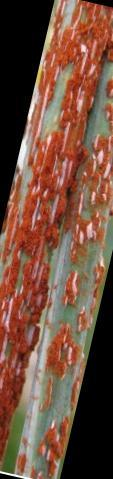Wheat: (4, 30, 107, 252), (0, 256, 90, 421)
